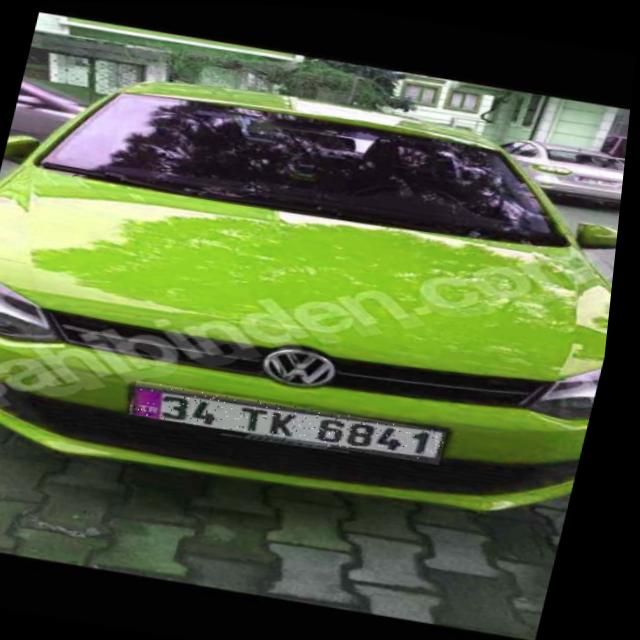license_plate: (134, 379, 460, 463)
